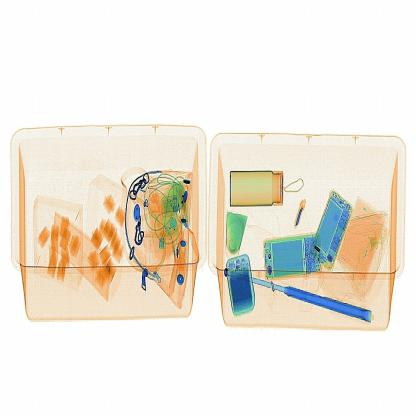wrench: (292, 188, 314, 235)
